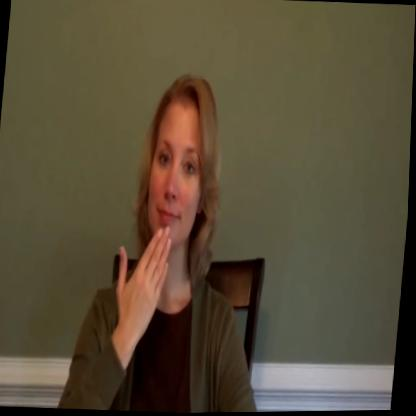ThankYou: (66, 69, 275, 415)
